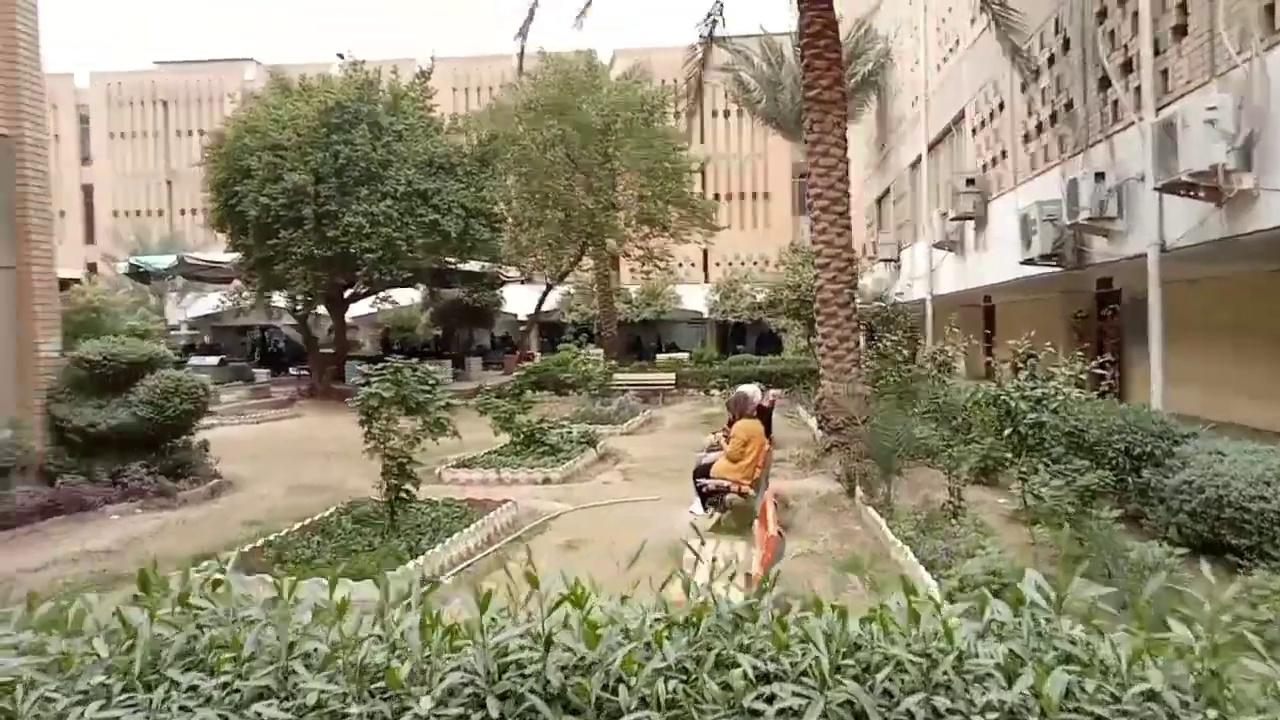person: (688, 386, 769, 515), (379, 325, 392, 355), (197, 334, 214, 355)
tree: (510, 0, 1019, 509), (194, 49, 508, 395), (708, 1, 898, 491), (470, 45, 728, 362), (36, 266, 227, 507), (344, 355, 462, 531)
